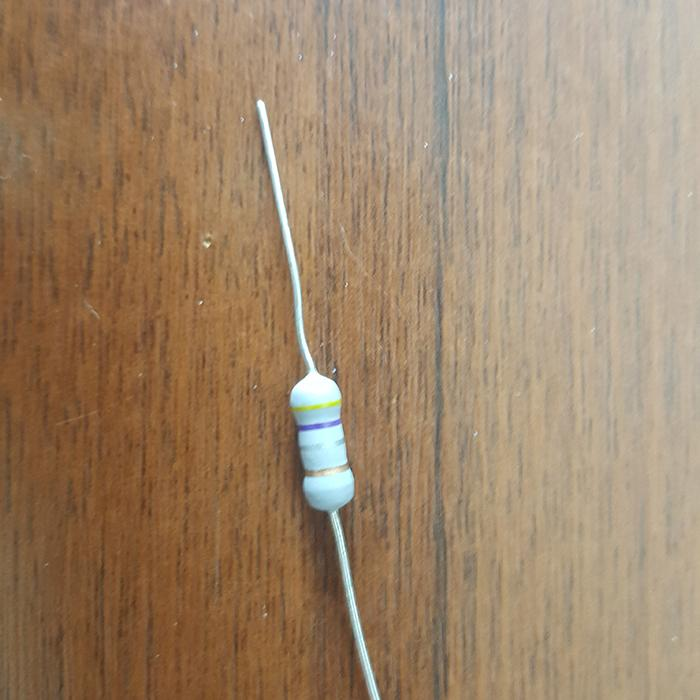resistor: (287, 369, 355, 512)
